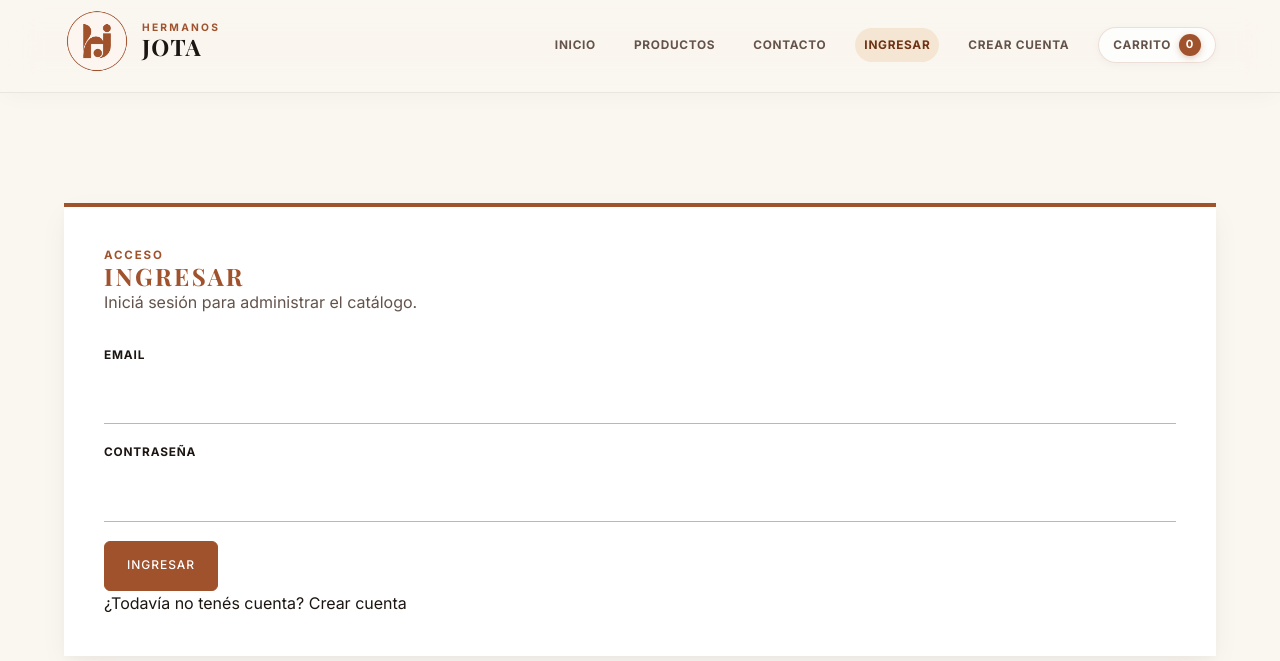
authentication flow › redirects an anonymous user to login and returns to the requested admin page
Check: the heading "Ingresar" is shown, box [104, 260, 245, 292]
Step 1. Type "admin@jota.com" into the field labelled "Email" → (640, 398), box [104, 372, 1176, 424]
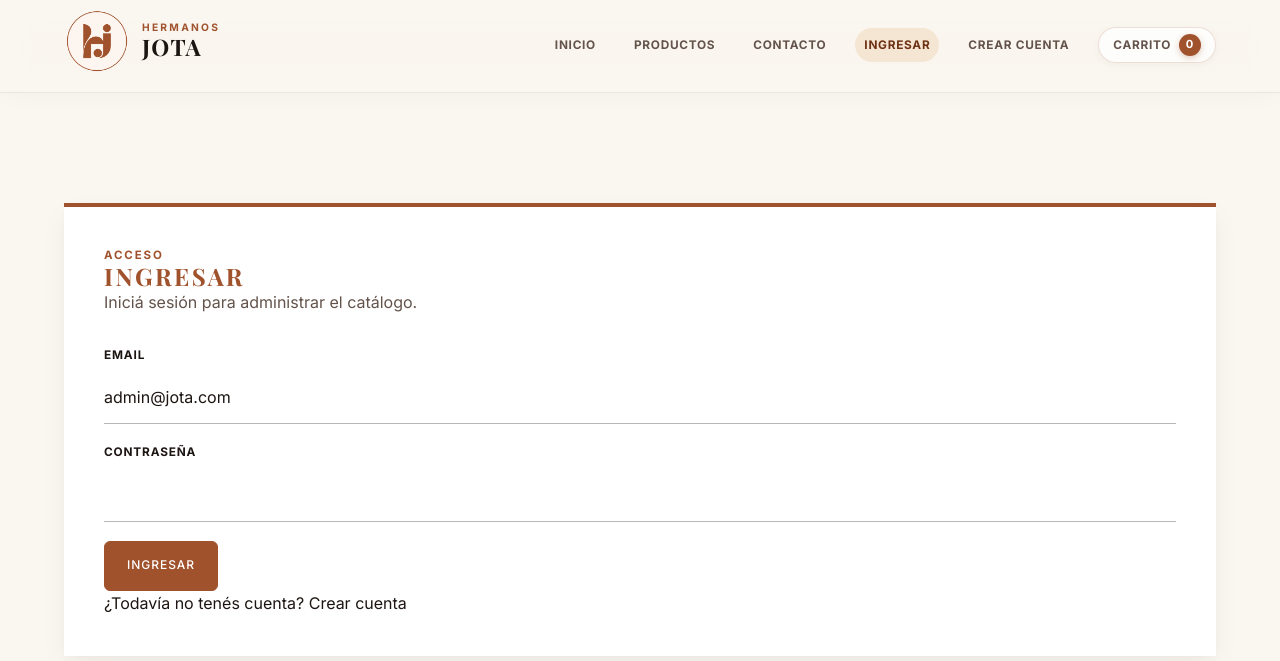
Step 2. Type "admin123" into the password field labelled "Contraseña" → (640, 495), box [104, 469, 1176, 522]
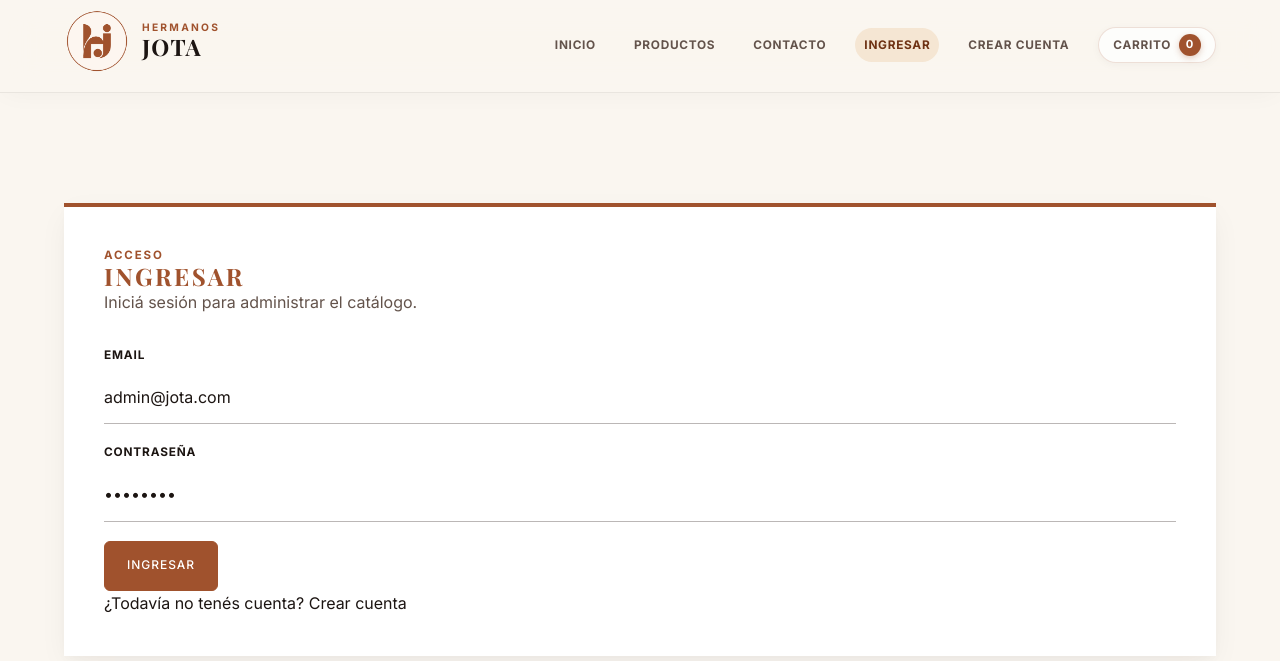
Step 3. Click the button "Ingresar" → click(161, 566), box [104, 541, 218, 591]
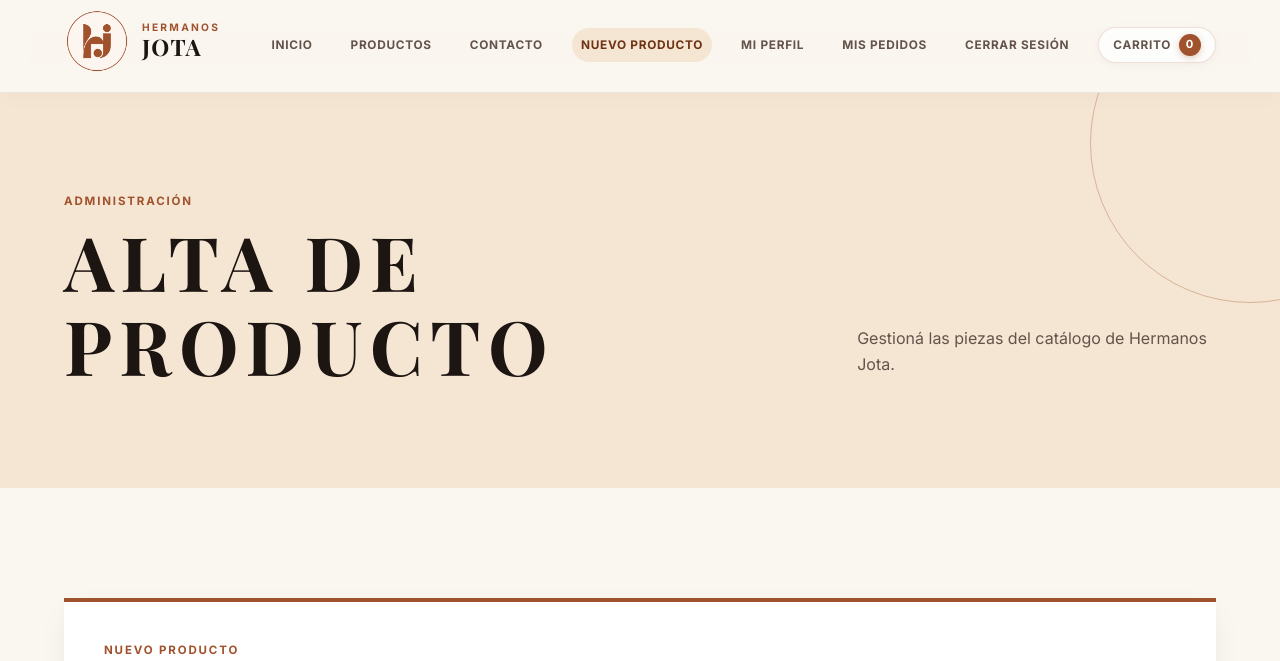
Check: the heading "Alta de producto" is shown, box [64, 211, 555, 395]
